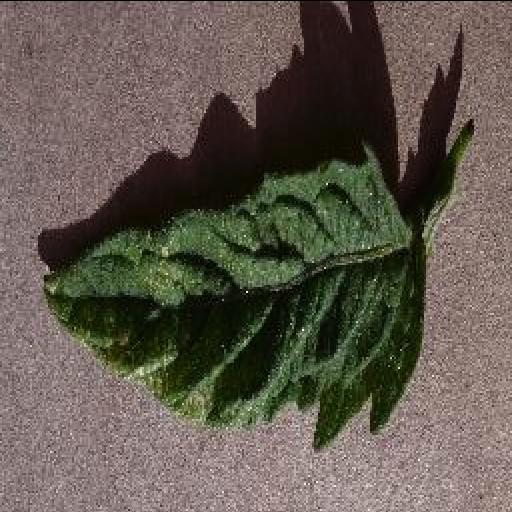disease_tomato: (44, 138, 426, 450)
